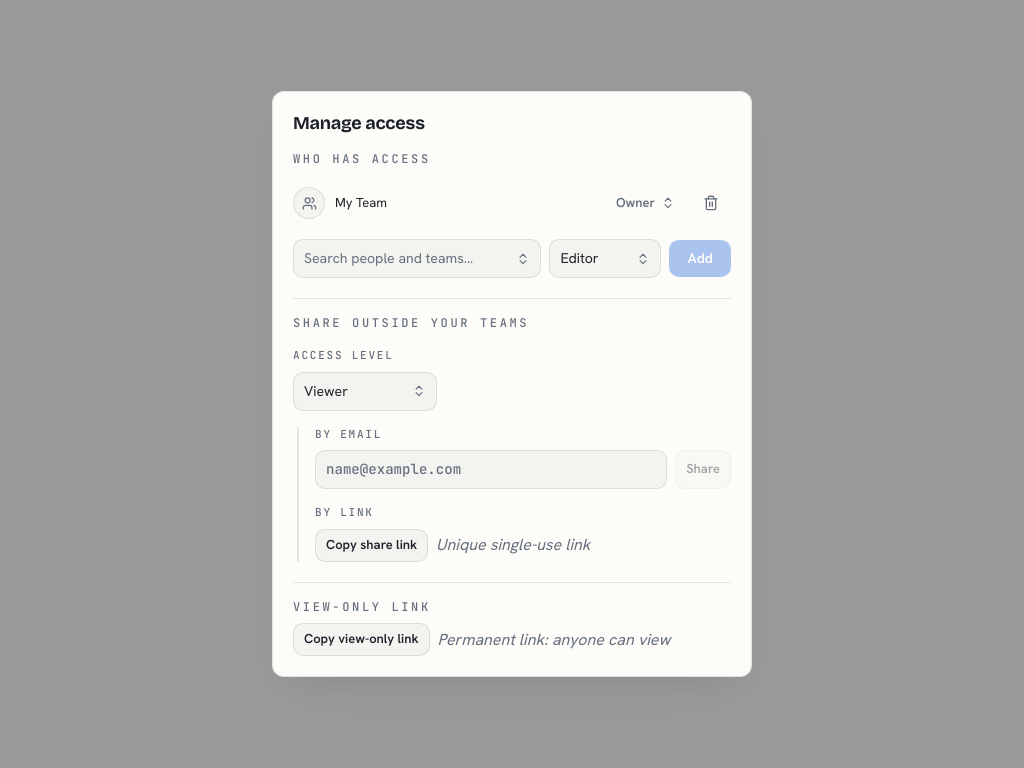
Test: AccessManager › the add picker scopes to teammates, named by display name not email
Click the dropdown named "Add a person or team" at (406, 259), box [304,248,508,269]
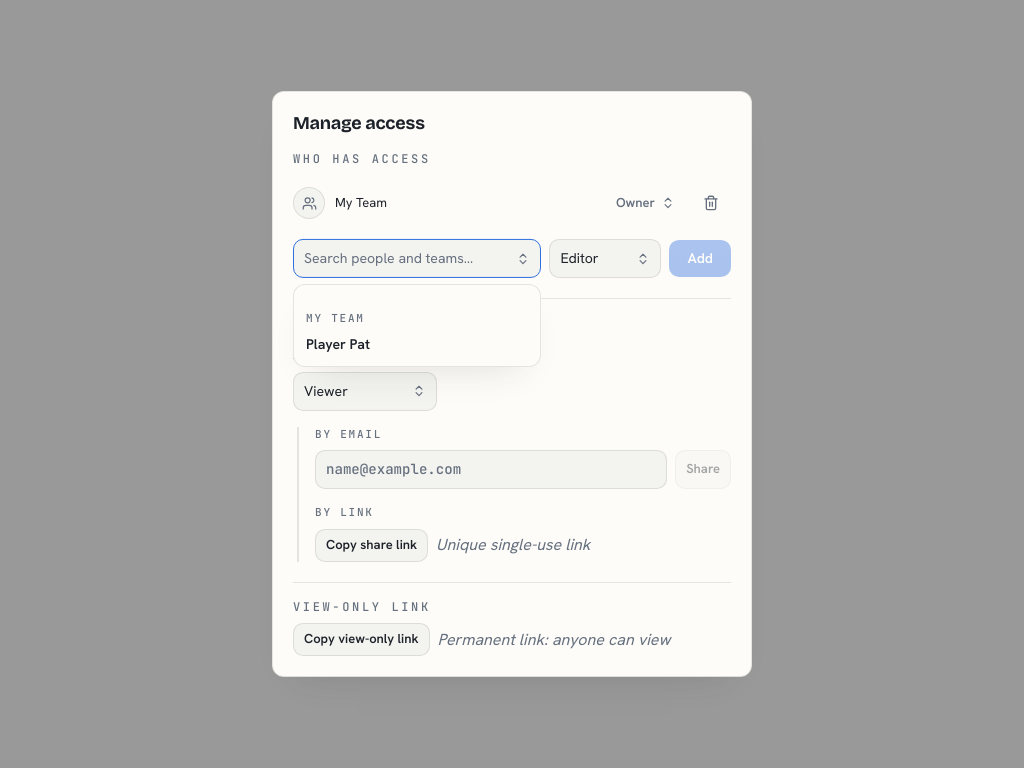
Check: the option "Player Pat" is shown, box [306,336,370,354]
